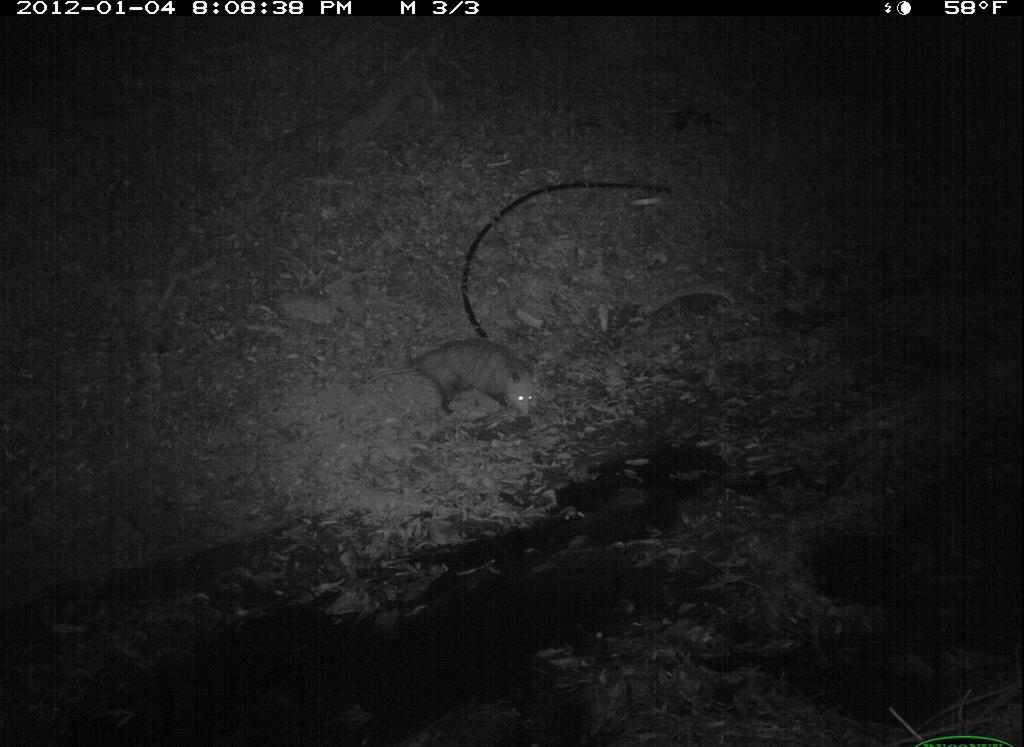opossum: (356, 321, 559, 440)
